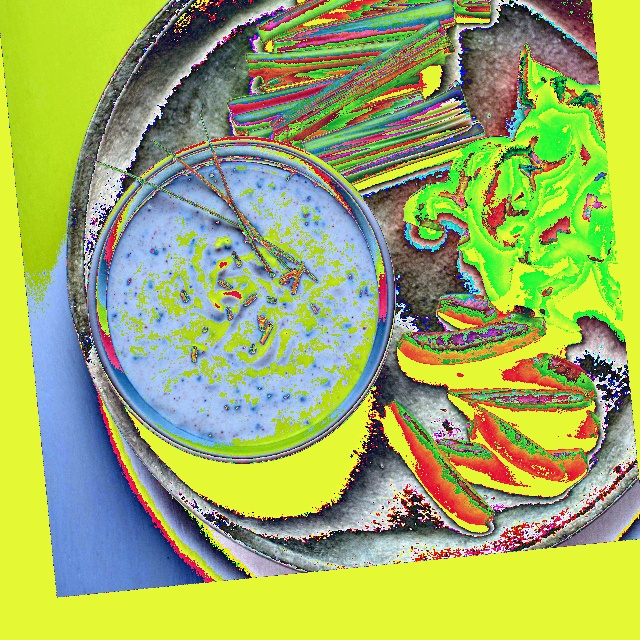background: (227, 0, 623, 526), (87, 102, 379, 446)
